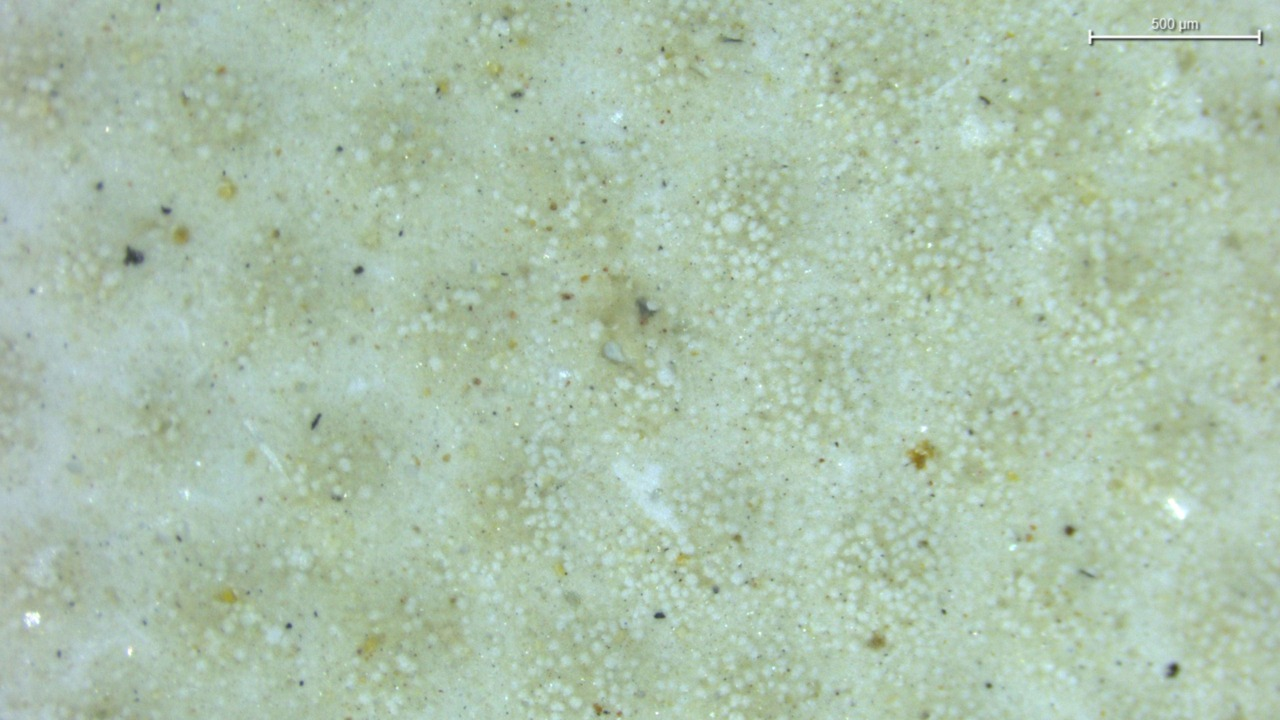microplastic_fragment: (604, 342, 625, 363)
